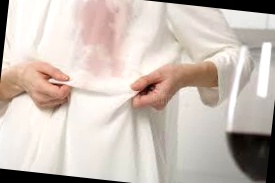wine: (69, 0, 136, 77)
